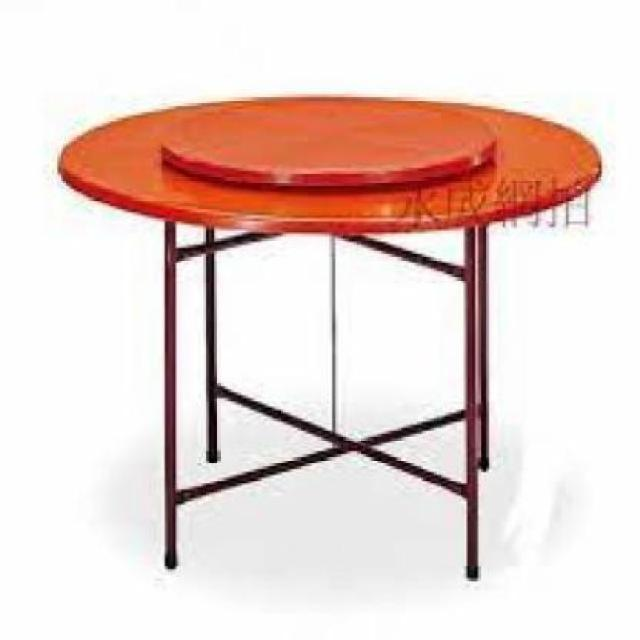tables: (55, 92, 603, 578)
